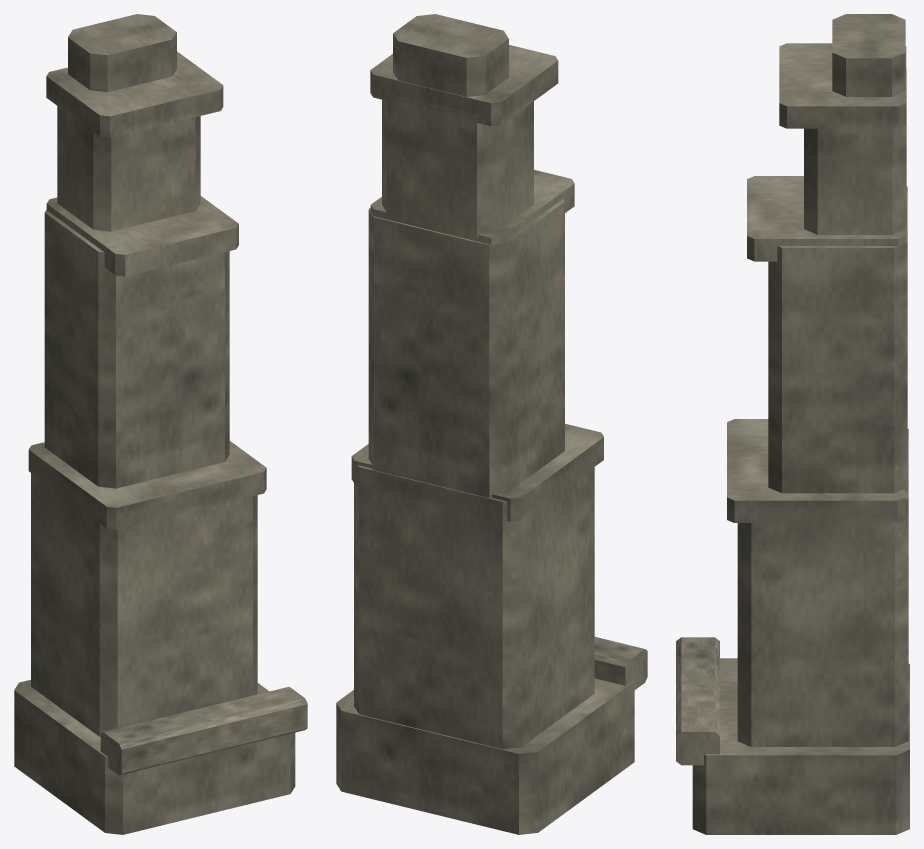
File: chapel_buttress.glb
3 views of the same model, side by side, from view 1: azimuth 30°, elevation 25°; view 2: azimuth 150°, elevation 25°; view 3: azimuth 270°, elevation 25° (orthographic). The views are drawn at different scales.
Parts seen in each view (by area): view 1: Chapel Buttress; view 2: Chapel Buttress; view 3: Chapel Buttress.
Boxes of the visible parts, x1,y1,x2,y2 form: Chapel Buttress: (14, 14, 307, 834); Chapel Buttress: (336, 14, 647, 834); Chapel Buttress: (676, 14, 909, 834).
Bounding box in the file's own units: 0.94 × 3.39 × 0.9578.
Materials: 1 (1 with a texture image).
